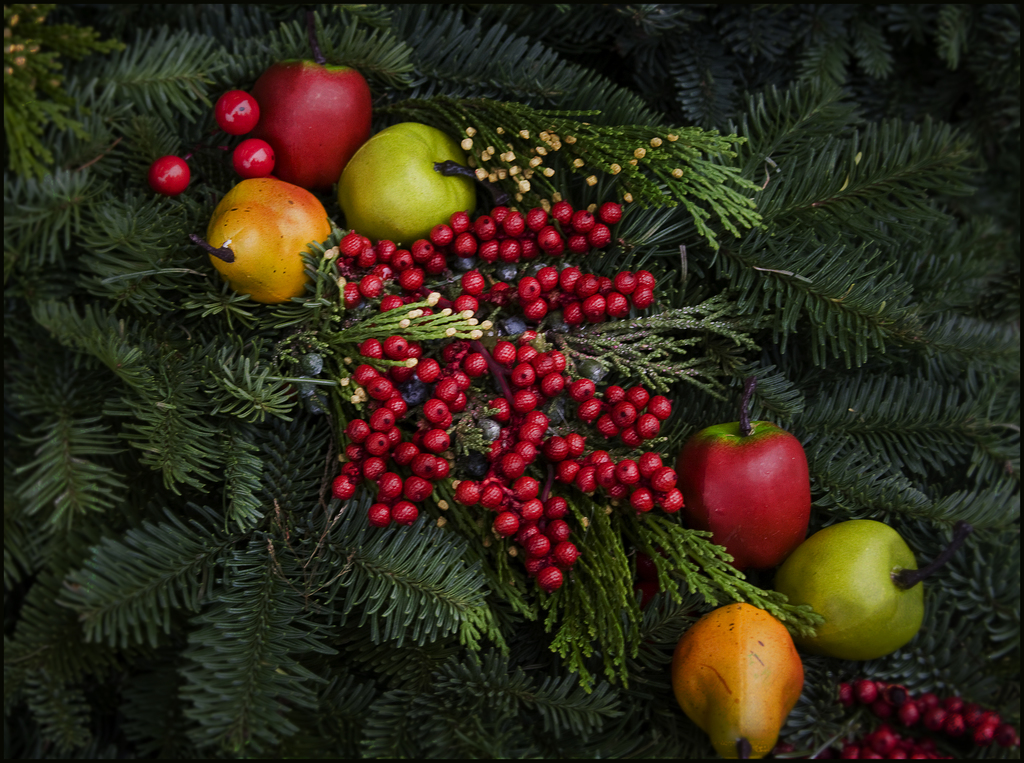Apple: (778, 513, 969, 659), (676, 375, 817, 570), (321, 122, 469, 238), (249, 58, 375, 191)
